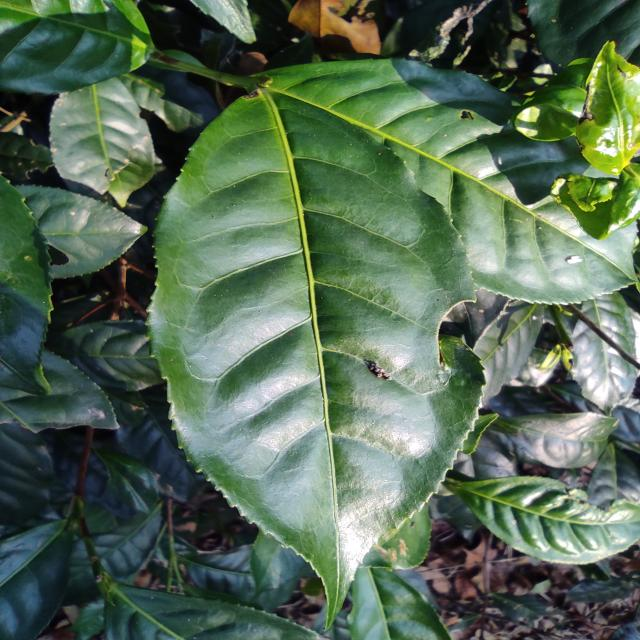Category D(7+ days, Not for Tea): (135, 85, 498, 629)
